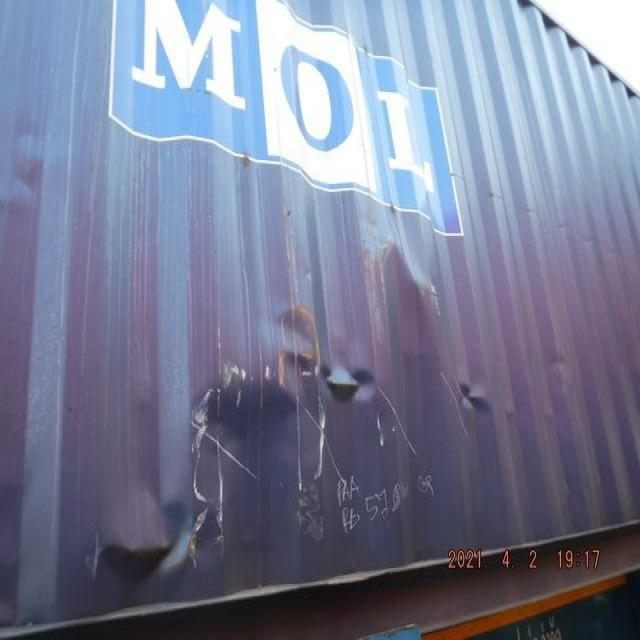dent: (56, 201, 512, 607)
